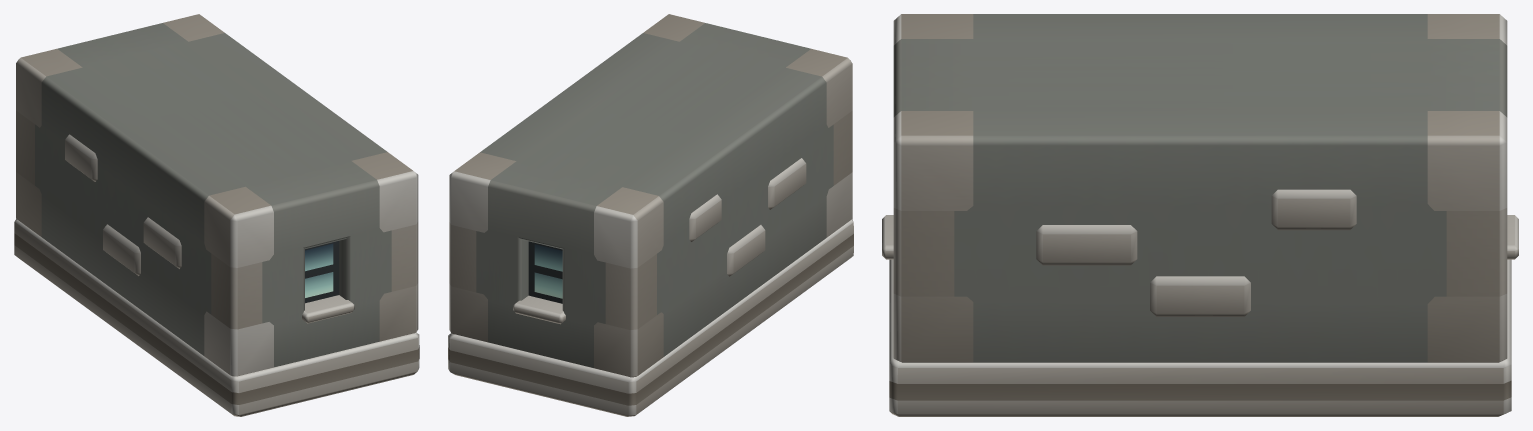
The model's file is appartment_type1_x2_element_grey.fbx.
The picture shows the model from 3 angles, left to right: view 1: azimuth 30°, elevation 25°; view 2: azimuth 150°, elevation 25°; view 3: azimuth 270°, elevation 25°; orthographic projection. The views are drawn at different scales.
Parts seen in each view (by area): view 1: appartment_type1_x2_element_grey; view 2: appartment_type1_x2_element_grey; view 3: appartment_type1_x2_element_grey.
Boxes of the visible parts, x1,y1,x2,y2 form: appartment_type1_x2_element_grey: (14, 14, 419, 416); appartment_type1_x2_element_grey: (448, 14, 853, 416); appartment_type1_x2_element_grey: (882, 14, 1518, 416).
Bounding box in the file's own units: 419 × 409 × 841.
